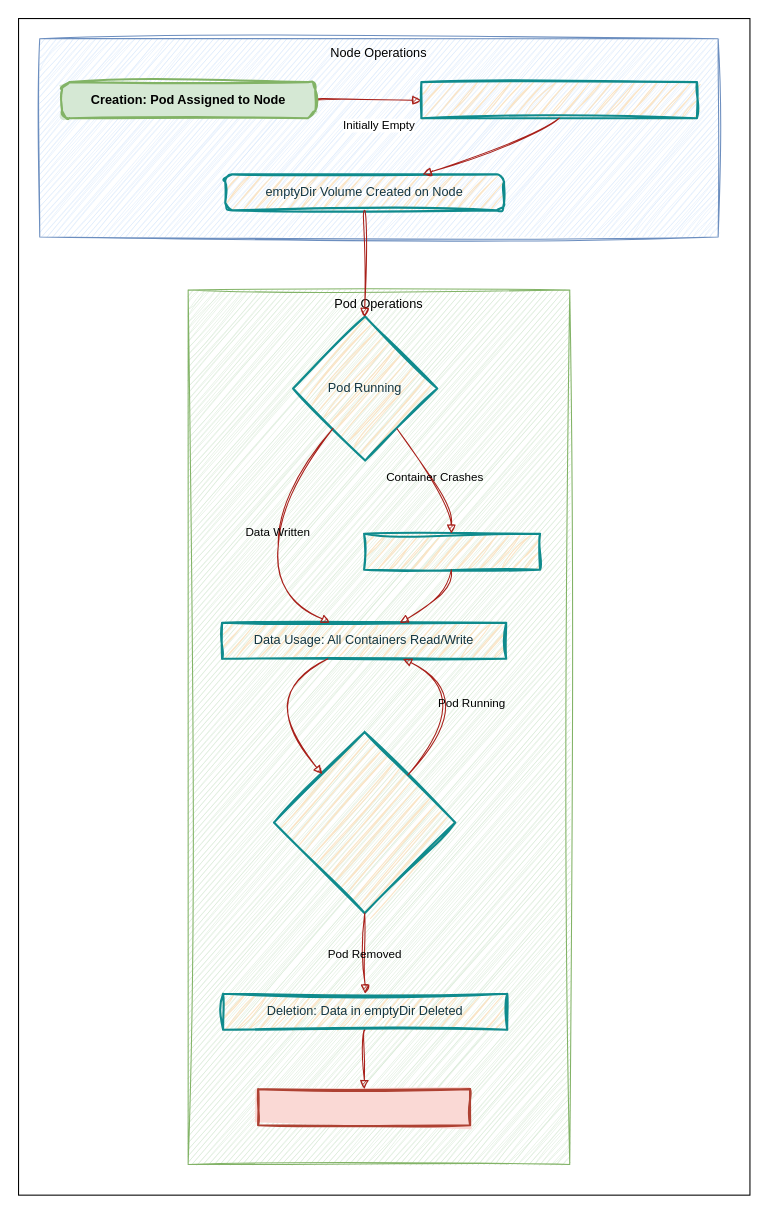
Image size: 768x1214. Some labels were removed from this diagram. The centre of each missing label's shape, as x and y in pixels:
emptyDir Unaffected: the point at 452,551
End of emptyDir Lifecycle: the point at 364,1107
Node Stores emptyDir on Disk or in Memory: the point at 558,100
Pod Status Check: the point at 364,822
